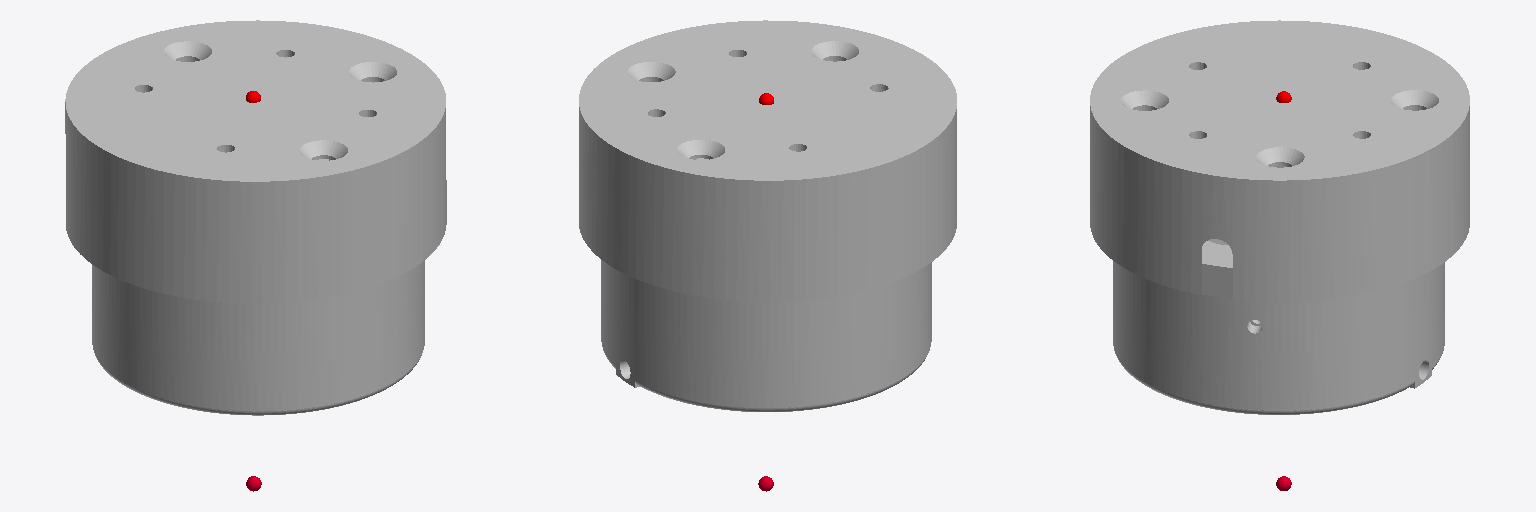
robot.urdf — panda:
<?xml version="1.0" ?>
<robot name="panda">
	<link name="world">
		<inertial>
			<origin rpy="0.00000 -0.00000 0.00000" xyz="0.00000 0.00000 0.00000"/>
			<mass value="0.00000"/>
			<inertia ixx="0.00000" ixy="0" ixz="0" iyy="0.00000" iyz="0" izz="0.00000"/>
		</inertial>
	</link>
	<link name="fixed_base">
		<inertial>
			<origin rpy="0.00000 -0.00000 0.00000" xyz="0.00000 0.00000 0.05000"/>
			<mass value="2.90000"/>
			<inertia ixx="0.01470" ixy="0" ixz="0" iyy="0.01849" iyz="0" izz="0.02260"/>
		</inertial>
		<visual>
			<origin rpy="0.00000 -0.00000 0.00000" xyz="0.00000 0.00000 0.00000"/>
			<geometry>
				<mesh filename="../robot_arm_assets/franka_panda/urdfs/../collision/link0.obj" scale="1.00000 1.00000 1.00000"/>
			</geometry>
			<material name="mat_0">
				<color rgba="1.00000 1.00000 1.00000 1.00000" />
			</material>
		</visual>
		<collision>
			<origin rpy="0.00000 -0.00000 0.00000" xyz="0.00000 0.00000 0.00000"/>
			<geometry>
				<mesh filename="../robot_arm_assets/franka_panda/urdfs/../collision/link0.obj" scale="1.00000 1.00000 1.00000"/>
			</geometry>
		</collision>
	</link>
	<link name="panda_link1">
		<inertial>
			<origin rpy="0.00000 -0.00000 0.00000" xyz="0.00000 -0.04000 -0.05000"/>
			<mass value="2.70000"/>
			<inertia ixx="0.02297" ixy="0" ixz="0" iyy="0.01777" iyz="0" izz="0.01148"/>
		</inertial>
		<visual>
			<origin rpy="0.00000 -0.00000 0.00000" xyz="0.00000 0.00000 0.00000"/>
			<geometry>
				<mesh filename="../robot_arm_assets/franka_panda/visual/link1.obj" scale="1.00000 1.00000 1.00000"/>
			</geometry>
			<material name="mat_1">
				<color rgba="1.00000 1.00000 1.00000 1.00000" />
			</material>
		</visual>
		<collision>
			<origin rpy="0.00000 -0.00000 0.00000" xyz="0.00000 0.00000 0.00000"/>
			<geometry>
				<mesh filename="../robot_arm_assets/franka_panda/urdfs/../collision/link1.obj" scale="1.00000 1.00000 1.00000"/>
			</geometry>
		</collision>
	</link>
	<link name="panda_link2">
		<inertial>
			<origin rpy="0.00000 -0.00000 0.00000" xyz="0.00000 -0.04000 0.06000"/>
			<mass value="2.73000"/>
			<inertia ixx="0.02349" ixy="0" ixz="0" iyy="0.01161" iyz="0" izz="0.01823"/>
		</inertial>
		<visual>
			<origin rpy="0.00000 -0.00000 0.00000" xyz="0.00000 0.00000 0.00000"/>
			<geometry>
				<mesh filename="../robot_arm_assets/franka_panda/visual/link2.obj" scale="1.00000 1.00000 1.00000"/>
			</geometry>
			<material name="mat_2">
				<color rgba="1.00000 1.00000 1.00000 1.00000" />
			</material>
		</visual>
		<collision>
			<origin rpy="0.00000 -0.00000 0.00000" xyz="0.00000 0.00000 0.00000"/>
			<geometry>
				<mesh filename="../robot_arm_assets/franka_panda/urdfs/../collision/link2.obj" scale="1.00000 1.00000 1.00000"/>
			</geometry>
		</collision>
	</link>
	<link name="panda_link3">
		<inertial>
			<origin rpy="0.00000 -0.00000 0.00000" xyz="0.01000 0.01000 -0.05000"/>
			<mass value="2.04000"/>
			<inertia ixx="0.01092" ixy="0" ixz="0" iyy="0.01258" iyz="0" izz="0.01197"/>
		</inertial>
		<visual>
			<origin rpy="0.00000 -0.00000 0.00000" xyz="0.00000 0.00000 0.00000"/>
			<geometry>
				<mesh filename="../robot_arm_assets/franka_panda/visual/link3.obj" scale="1.00000 1.00000 1.00000"/>
			</geometry>
			<material name="mat_3">
				<color rgba="1.00000 1.00000 1.00000 1.00000" />
			</material>
		</visual>
		<collision>
			<origin rpy="0.00000 -0.00000 0.00000" xyz="0.00000 0.00000 0.00000"/>
			<geometry>
				<mesh filename="../robot_arm_assets/franka_panda/urdfs/../collision/link3.obj" scale="1.00000 1.00000 1.00000"/>
			</geometry>
		</collision>
	</link>
	<link name="panda_link4">
		<inertial>
			<origin rpy="0.00000 -0.00000 0.00000" xyz="-0.03000 0.03000 0.02000"/>
			<mass value="2.08000"/>
			<inertia ixx="0.01134" ixy="0" ixz="0" iyy="0.01225" iyz="0" izz="0.01306"/>
		</inertial>
		<visual>
			<origin rpy="0.00000 -0.00000 0.00000" xyz="0.00000 0.00000 0.00000"/>
			<geometry>
				<mesh filename="../robot_arm_assets/franka_panda/visual/link4.obj" scale="1.00000 1.00000 1.00000"/>
			</geometry>
			<material name="mat_4">
				<color rgba="1.00000 1.00000 1.00000 1.00000" />
			</material>
		</visual>
		<collision>
			<origin rpy="0.00000 -0.00000 0.00000" xyz="0.00000 0.00000 0.00000"/>
			<geometry>
				<mesh filename="../robot_arm_assets/franka_panda/urdfs/../collision/link4.obj" scale="1.00000 1.00000 1.00000"/>
			</geometry>
		</collision>
	</link>
	<link name="panda_link5">
		<inertial>
			<origin rpy="0.00000 -0.00000 0.00000" xyz="0.00000 0.04000 -0.12000"/>
			<mass value="3.00000"/>
			<inertia ixx="0.03568" ixy="0" ixz="0" iyy="0.02985" iyz="0" izz="0.01280"/>
		</inertial>
		<visual>
			<origin rpy="0.00000 -0.00000 0.00000" xyz="0.00000 0.00000 0.00000"/>
			<geometry>
				<mesh filename="../robot_arm_assets/franka_panda/visual/link5.obj" scale="1.00000 1.00000 1.00000"/>
			</geometry>
			<material name="mat_5">
				<color rgba="1.00000 1.00000 1.00000 1.00000" />
			</material>
		</visual>
		<collision>
			<origin rpy="0.00000 -0.00000 0.00000" xyz="0.00000 0.00000 0.00000"/>
			<geometry>
				<mesh filename="../robot_arm_assets/franka_panda/urdfs/../collision/link5.obj" scale="1.00000 1.00000 1.00000"/>
			</geometry>
		</collision>
	</link>
	<link name="panda_link6">
		<inertial>
			<origin rpy="0.00000 -0.00000 0.00000" xyz="0.04000 0.00000 0.00000"/>
			<mass value="1.30000"/>
			<inertia ixx="0.00343" ixy="0" ixz="0" iyy="0.00512" iyz="0" izz="0.00599"/>
		</inertial>
		<visual>
			<origin rpy="0.00000 -0.00000 0.00000" xyz="0.00000 0.00000 0.00000"/>
			<geometry>
				<mesh filename="../robot_arm_assets/franka_panda/visual/link6.obj" scale="1.00000 1.00000 1.00000"/>
			</geometry>
			<material name="mat_6">
				<color rgba="1.00000 1.00000 1.00000 1.00000" />
			</material>
		</visual>
		<collision>
			<origin rpy="0.00000 -0.00000 0.00000" xyz="0.00000 0.00000 0.00000"/>
			<geometry>
				<mesh filename="../robot_arm_assets/franka_panda/urdfs/../collision/link6.obj" scale="1.00000 1.00000 1.00000"/>
			</geometry>
		</collision>
	</link>
	<link name="panda_link7">
		<inertial>
			<origin rpy="0.00000 -0.00000 0.00000" xyz="0.00000 0.00000 0.08000"/>
			<mass value="0.20000"/>
			<inertia ixx="0.00036" ixy="0" ixz="0" iyy="0.00036" iyz="0" izz="0.00059"/>
		</inertial>
		<visual>
			<origin rpy="0.00000 -0.00000 0.00000" xyz="0.00000 0.00000 0.00000"/>
			<geometry>
				<mesh filename="../robot_arm_assets/franka_panda/urdfs/../collision/link7.obj" scale="1.00000 1.00000 1.00000"/>
			</geometry>
			<material name="mat_7">
				<color rgba="1.00000 1.00000 1.00000 1.00000" />
			</material>
		</visual>
		<collision>
			<origin rpy="0.00000 -0.00000 0.00000" xyz="0.00000 0.00000 0.00000"/>
			<geometry>
				<mesh filename="../robot_arm_assets/franka_panda/urdfs/../collision/link7.obj" scale="1.00000 1.00000 1.00000"/>
			</geometry>
		</collision>
	</link>
	<link name="ee_link">
		<inertial>
			<origin rpy="-3.14000 -0.00000 1.57000" xyz="0.00000 0.00000 0.00000"/>
			<mass value="0.00000"/>
			<inertia ixx="0.00000" ixy="0" ixz="0" iyy="0.00000" iyz="0" izz="0.00000"/>
		</inertial>
		<visual>
			<origin rpy="0.00000 -0.00000 0.00000" xyz="0.00000 0.00000 0.00000"/>
			<geometry>
				<sphere radius="0.00100"/>
			</geometry>
			<material name="mat_8">
				<color rgba="1.00000 0.00000 0.00000 1.00000" />
			</material>
		</visual>
		<collision>
			<origin rpy="0.00000 -0.00000 0.00000" xyz="0.00000 0.00000 0.00000"/>
			<geometry>
				<sphere radius="0.00100"/>
			</geometry>
		</collision>
	</link>
	<link name="tactip_body_link">
		<inertial>
			<origin rpy="0.00000 -0.00000 0.00000" xyz="0.00000 0.00000 0.00000"/>
			<mass value="0.25000"/>
			<inertia ixx="0.00010" ixy="0" ixz="0" iyy="0.00010" iyz="0" izz="0.00013"/>
		</inertial>
		<visual>
			<origin rpy="0.00000 -0.00000 0.00000" xyz="0.00000 0.00000 0.00000"/>
			<geometry>
				<mesh filename="../sensor_assets/mini_tactip/body/minitip_body.obj" scale="1.00000 1.00000 1.00000"/>
			</geometry>
			<material name="mat_9">
				<color rgba="0.80000 0.80000 0.80000 1.00000" />
			</material>
		</visual>
		<collision>
			<origin rpy="0.00000 -0.00000 0.00000" xyz="0.00000 0.00000 0.00000"/>
			<geometry>
				<mesh filename="../sensor_assets/mini_tactip/body/minitip_body.obj" scale="1.00000 1.00000 1.00000"/>
			</geometry>
		</collision>
	</link>
	<link name="tactip_tip_link">
		<inertial>
			<origin rpy="0.00000 -0.00000 0.00000" xyz="0.00000 0.00000 0.00000"/>
			<mass value="0.01000"/>
			<inertia ixx="0.00000" ixy="0" ixz="0" iyy="0.00000" iyz="0" izz="0.00000"/>
		</inertial>
		<visual>
			<origin rpy="0.00000 -0.00000 0.00000" xyz="0.00000 0.00000 0.00000"/>
			<geometry>
				<mesh filename="../sensor_assets/mini_tactip/tip/skin.obj" scale="1.00000 1.00000 1.00000"/>
			</geometry>
			<material name="mat_10">
				<color rgba="0.00000 0.00000 0.00000 1.00000" />
			</material>
		</visual>
		<collision>
			<origin rpy="0.00000 -0.00000 0.00000" xyz="0.00000 0.00000 0.00000"/>
			<geometry>
				<mesh filename="../sensor_assets/mini_tactip/tip/core.obj" scale="1.00000 1.00000 1.00000"/>
			</geometry>
		</collision>
	</link>
	<link name="tcp_link">
		<inertial>
			<origin rpy="0.00000 -0.00000 1.57000" xyz="0.00000 0.00000 0.00000"/>
			<mass value="0.00000"/>
			<inertia ixx="0.00000" ixy="0" ixz="0" iyy="0.00000" iyz="0" izz="0.00000"/>
		</inertial>
		<visual>
			<origin rpy="0.00000 -0.00000 0.00000" xyz="0.00000 0.00000 0.00000"/>
			<geometry>
				<sphere radius="0.00100"/>
			</geometry>
			<material name="mat_11">
				<color rgba="0.90000 0.00000 0.20000 0.50000" />
			</material>
		</visual>
	</link>
	<joint name="world_joint" type="fixed">
		<parent link="world"/>
		<child link="fixed_base"/>
		<dynamics damping="1.0" friction="0.0001"/>
		<origin rpy="0.00000 -0.00000 -3.14000" xyz="0.00000 0.00000 0.00000"/>
		<axis xyz="0.00000 0.00000 0.00000"/>
	</joint>
	<joint name="panda_joint1" type="revolute">
		<parent link="fixed_base"/>
		<child link="panda_link1"/>
		<limit effort="87.00000" lower="-100.00000" upper="100.00000" velocity="2.17500"/>
		<dynamics damping="1.0" friction="0.0001"/>
		<origin rpy="0.00000 -0.00000 0.00000" xyz="0.00000 0.00000 0.33300"/>
		<axis xyz="0.00000 0.00000 1.00000"/>
	</joint>
	<joint name="panda_joint2" type="revolute">
		<parent link="panda_link1"/>
		<child link="panda_link2"/>
		<limit effort="87.00000" lower="-100.00000" upper="100.00000" velocity="2.17500"/>
		<dynamics damping="1.0" friction="0.0001"/>
		<origin rpy="-1.57080 0.00000 0.00000" xyz="0.00000 0.00000 0.00000"/>
		<axis xyz="0.00000 0.00000 1.00000"/>
	</joint>
	<joint name="panda_joint3" type="revolute">
		<parent link="panda_link2"/>
		<child link="panda_link3"/>
		<limit effort="87.00000" lower="-100.00000" upper="100.00000" velocity="2.17500"/>
		<dynamics damping="1.0" friction="0.0001"/>
		<origin rpy="1.57080 -0.00000 0.00000" xyz="0.00000 -0.31600 0.00000"/>
		<axis xyz="0.00000 0.00000 1.00000"/>
	</joint>
	<joint name="panda_joint4" type="revolute">
		<parent link="panda_link3"/>
		<child link="panda_link4"/>
		<limit effort="87.00000" lower="-100.00000" upper="100.00000" velocity="2.17500"/>
		<dynamics damping="1.0" friction="0.0001"/>
		<origin rpy="1.57080 -0.00000 0.00000" xyz="0.08250 0.00000 0.00000"/>
		<axis xyz="0.00000 0.00000 1.00000"/>
	</joint>
	<joint name="panda_joint5" type="revolute">
		<parent link="panda_link4"/>
		<child link="panda_link5"/>
		<limit effort="12.00000" lower="-100.00000" upper="100.00000" velocity="2.61000"/>
		<dynamics damping="1.0" friction="0.0001"/>
		<origin rpy="-1.57080 0.00000 0.00000" xyz="-0.08250 0.38400 0.00000"/>
		<axis xyz="0.00000 0.00000 1.00000"/>
	</joint>
	<joint name="panda_joint6" type="revolute">
		<parent link="panda_link5"/>
		<child link="panda_link6"/>
		<limit effort="12.00000" lower="-100.00000" upper="100.00000" velocity="2.61000"/>
		<dynamics damping="1.0" friction="0.0001"/>
		<origin rpy="1.57080 -0.00000 0.00000" xyz="0.00000 0.00000 0.00000"/>
		<axis xyz="0.00000 0.00000 1.00000"/>
	</joint>
	<joint name="panda_joint7" type="revolute">
		<parent link="panda_link6"/>
		<child link="panda_link7"/>
		<limit effort="12.00000" lower="-100.00000" upper="100.00000" velocity="2.61000"/>
		<dynamics damping="1.0" friction="0.0001"/>
		<origin rpy="1.57080 -0.00000 0.00000" xyz="0.08800 0.00000 0.00000"/>
		<axis xyz="0.00000 0.00000 1.00000"/>
	</joint>
	<joint name="ee_joint" type="fixed">
		<parent link="panda_link7"/>
		<child link="ee_link"/>
		<dynamics damping="1.0" friction="0.0001"/>
		<origin rpy="3.14000 -0.00000 1.57000" xyz="0.00000 0.00000 0.10700"/>
		<axis xyz="0.00000 0.00000 0.00000"/>
	</joint>
	<joint name="joint_dummy1" type="fixed">
		<parent link="ee_link"/>
		<child link="tactip_body_link"/>
		<dynamics damping="1.0" friction="0.0001"/>
		<origin rpy="-3.14159 0.00000 3.14159" xyz="0.00000 0.00000 0.00000"/>
		<axis xyz="0.00000 0.00000 1.00000"/>
	</joint>
	<joint name="tactip_tip_to_body" type="fixed">
		<parent link="tactip_body_link"/>
		<child link="tactip_tip_link"/>
		<dynamics damping="1.0" friction="0.0001"/>
		<origin rpy="1.57000 -0.00000 0.00000" xyz="0.00000 0.00000 0.03500"/>
		<axis xyz="0.00000 0.00000 0.00000"/>
	</joint>
	<joint name="tcp_joint" type="fixed">
		<parent link="tactip_body_link"/>
		<child link="tcp_link"/>
		<dynamics damping="1.0" friction="0.0001"/>
		<origin rpy="0.00000 -0.00000 0.00000" xyz="0.00000 0.00000 0.05500"/>
		<axis xyz="0.00000 0.00000 0.00000"/>
	</joint>
</robot>

--- Render facts (derived) ---
Views: 3 orthographic renders of the robot side by side, from view 1: azimuth 30°, elevation 25°; view 2: azimuth 150°, elevation 25°; view 3: azimuth 270°, elevation 25°.
Robot: panda — 13 links, 12 joints (7 revolute, 5 fixed); root link world; default pose: all joints at 0.
Links seen in each view (by area): view 1: tactip_body_link; view 2: tactip_body_link; view 3: tactip_body_link.
Boxes of the visible links, x1,y1,x2,y2 form: tactip_body_link: (65,20,446,415); tactip_body_link: (579,20,956,411); tactip_body_link: (1090,20,1469,414).
Bounding box of the posed robot: 0.0493 × 0.0493 × 0.057 m (x, y, z).
Meshes: 10 distinct files referenced, 1 mesh visuals loaded (1 OBJ); not drawn: 9 (reference not matched to a file when rendering).